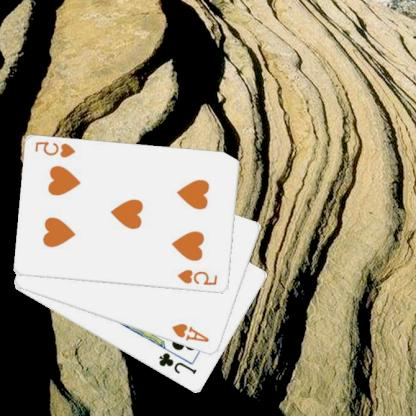5H: (34, 139, 79, 160), (177, 267, 221, 287)
AH: (171, 321, 212, 344)
JC: (158, 350, 200, 376)
